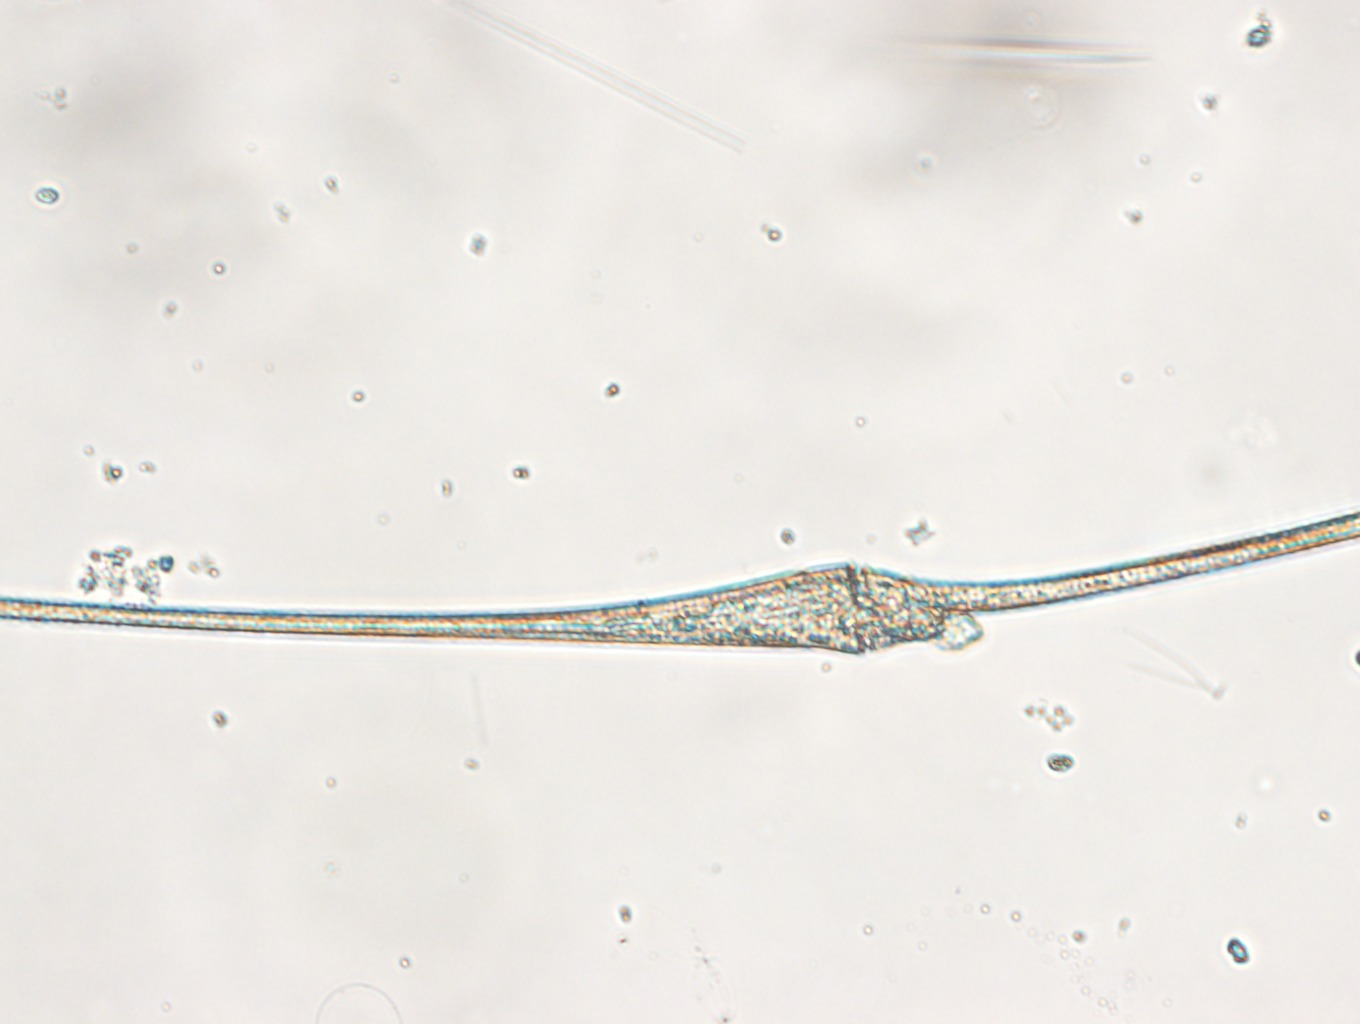ceratium fusus: (1, 511, 1360, 658)
